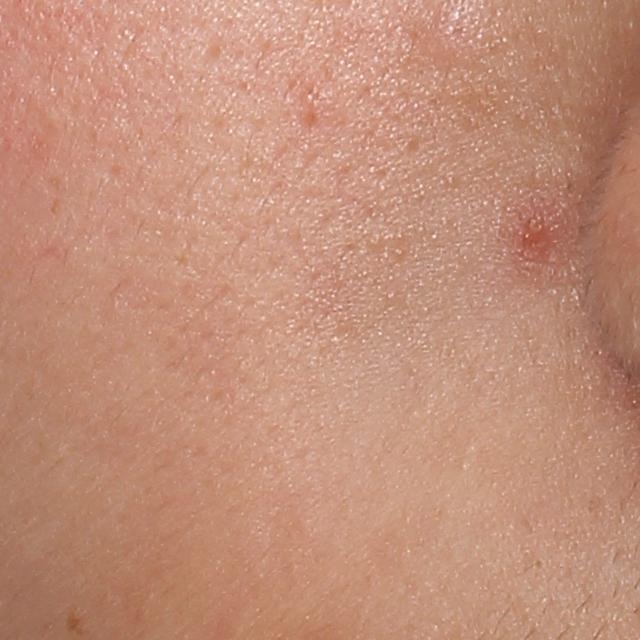melasma: (66, 605, 90, 639)
